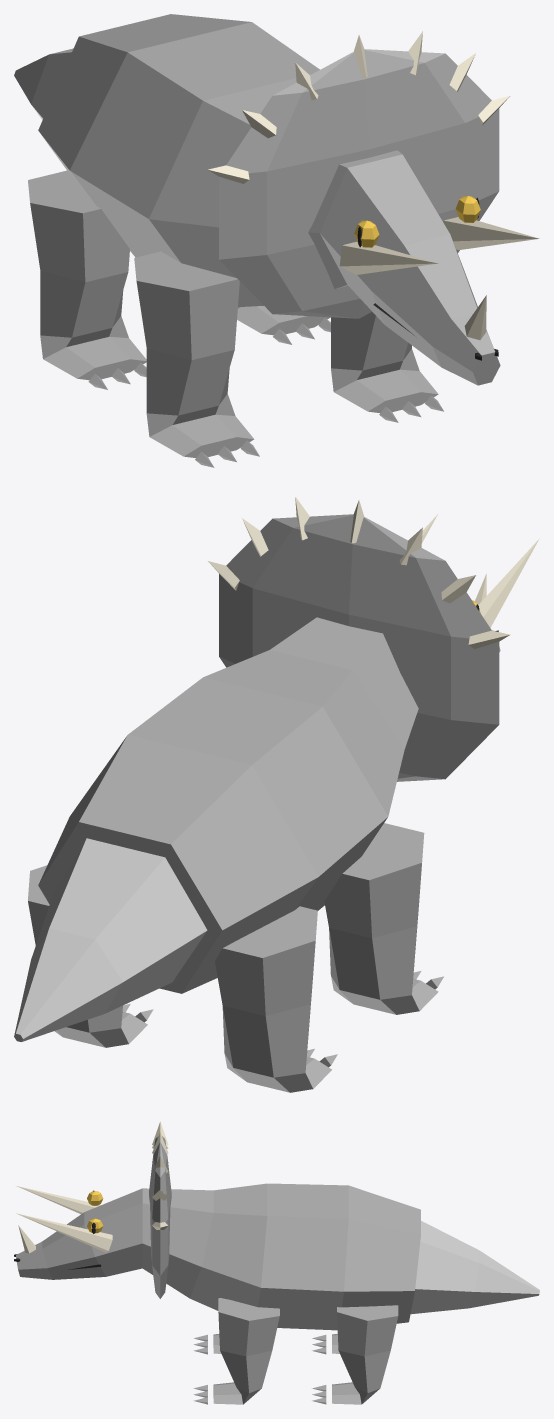
The model's file is horned.fbx.
The picture shows the model from 3 angles, top to bottom: view 1: azimuth 30°, elevation 25°; view 2: azimuth 150°, elevation 25°; view 3: azimuth 270°, elevation 25°; orthographic projection. The views are drawn at different scales.
Visible parts, largest first — view 1: horned_Body, horned_LegFR, horned_LegBR, horned_LegFL, horned_Accent, horned_Tail, horned_LegBL, horned_Eyes; view 2: horned_Body, horned_Tail, horned_LegBR, horned_LegFR, horned_Accent, horned_LegBL; view 3: horned_Body, horned_Tail, horned_LegFL, horned_LegBL, horned_Accent, horned_Eyes.
Boxes of the visible parts, x1,y1,x2,y2 form: horned_Body: [38, 14, 500, 385]; horned_LegFR: [134, 251, 259, 467]; horned_LegBR: [28, 170, 146, 389]; horned_LegFL: [331, 312, 443, 422]; horned_Accent: [208, 31, 539, 339]; horned_Tail: [14, 48, 73, 119]; horned_LegBL: [237, 306, 330, 344]; horned_Eyes: [354, 196, 480, 247]; horned_Body: [38, 514, 500, 993]; horned_Tail: [14, 838, 207, 1041]; horned_LegBR: [215, 906, 337, 1092]; horned_LegFR: [324, 823, 443, 1014]; horned_Accent: [208, 497, 539, 648]; horned_LegBL: [28, 865, 153, 1047]; horned_Body: [16, 1136, 420, 1330]; horned_Tail: [410, 1221, 539, 1314]; horned_LegFL: [193, 1298, 279, 1404]; horned_LegBL: [312, 1305, 398, 1404]; horned_Accent: [16, 1122, 168, 1253]; horned_Eyes: [87, 1191, 103, 1233].
Bounding box in the file's own units: 3.29 × 4.5 × 8.88.
